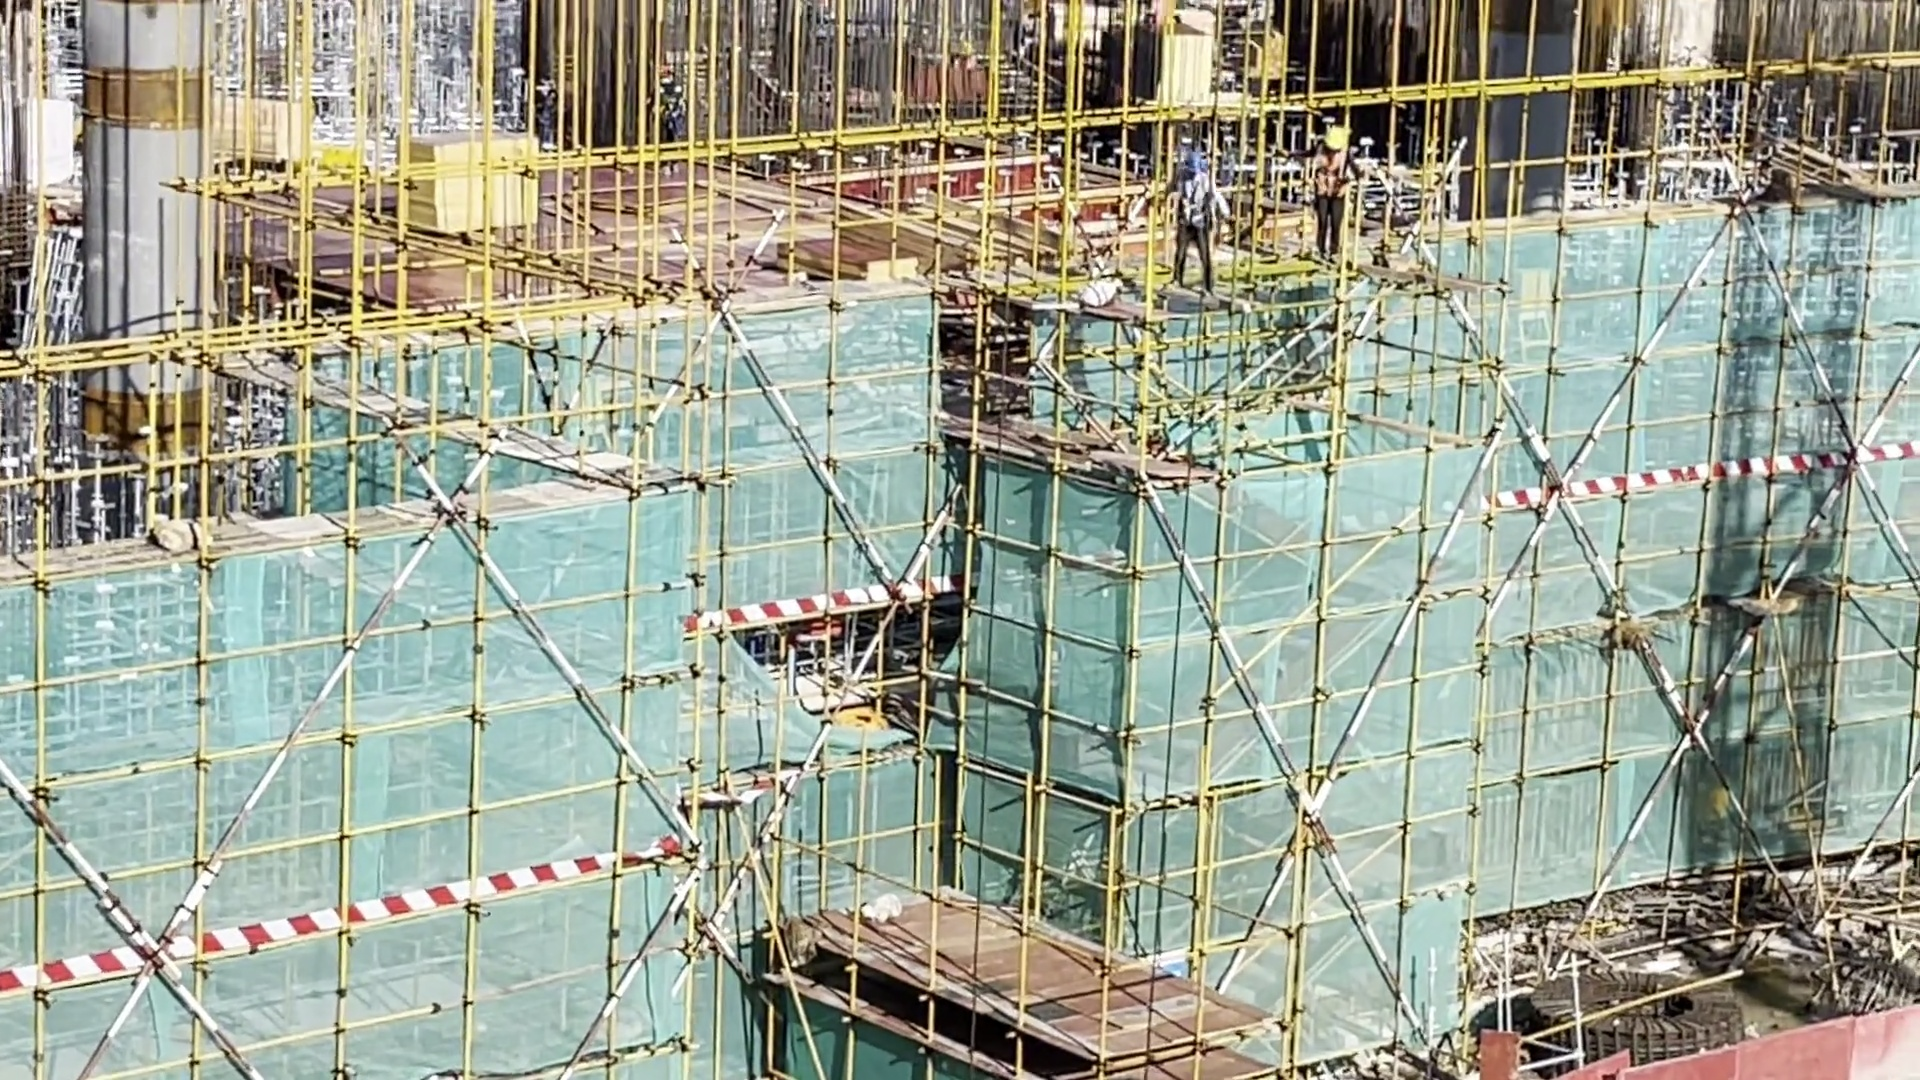ebox: (1510, 261, 1568, 372)
helmet: (1174, 143, 1210, 172), (1328, 126, 1354, 147)
person: (1300, 117, 1358, 267), (1174, 128, 1218, 283)
vest: (1179, 176, 1215, 231), (1318, 149, 1348, 193)
